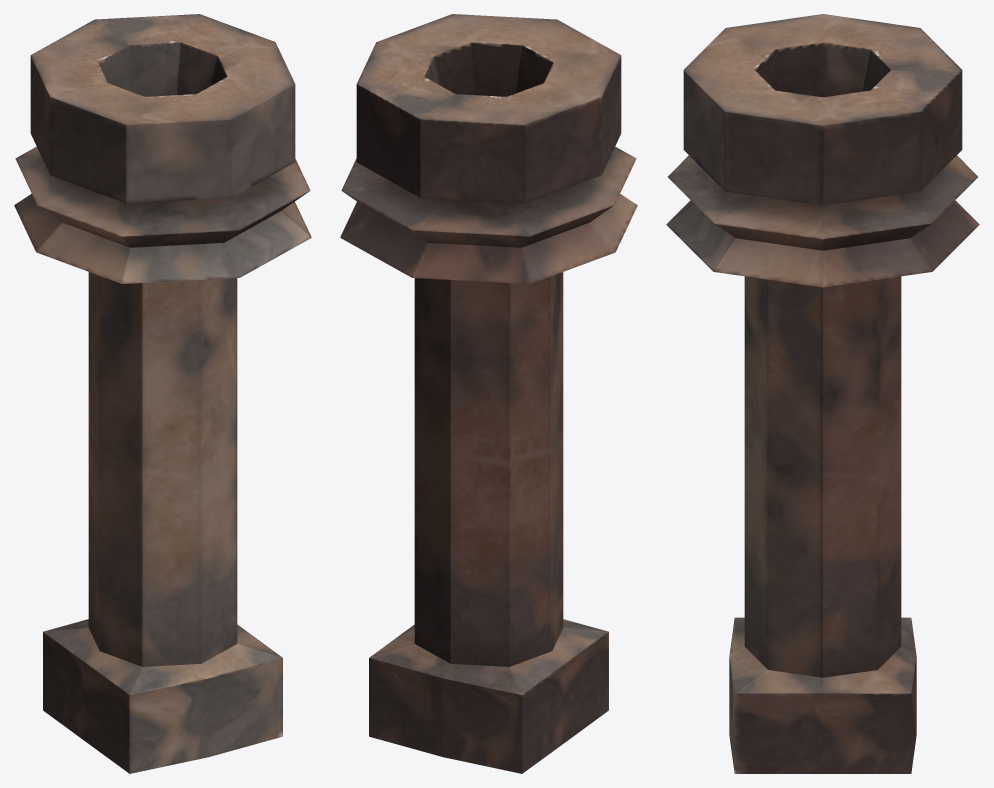
Rendered from SM_LongBot_Bolt.FBX.
The picture shows the model from 3 angles, left to right: view 1: azimuth 30°, elevation 25°; view 2: azimuth 150°, elevation 25°; view 3: azimuth 270°, elevation 25°; orthographic projection.
Parts seen in each view (by area): view 1: SM_LongBot_Bolt; view 2: SM_LongBot_Bolt; view 3: SM_LongBot_Bolt.
Part boxes in pixels (left/top/right/bottom): SM_LongBot_Bolt: left=14, top=14, right=311, bottom=773; SM_LongBot_Bolt: left=340, top=14, right=637, bottom=773; SM_LongBot_Bolt: left=666, top=14, right=979, bottom=773.
Bounding box in the file's own units: 3.1 × 3.26 × 7.63.
